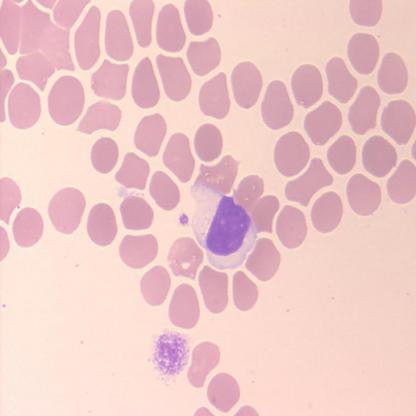Lymphocyte: (189, 182, 258, 272)
